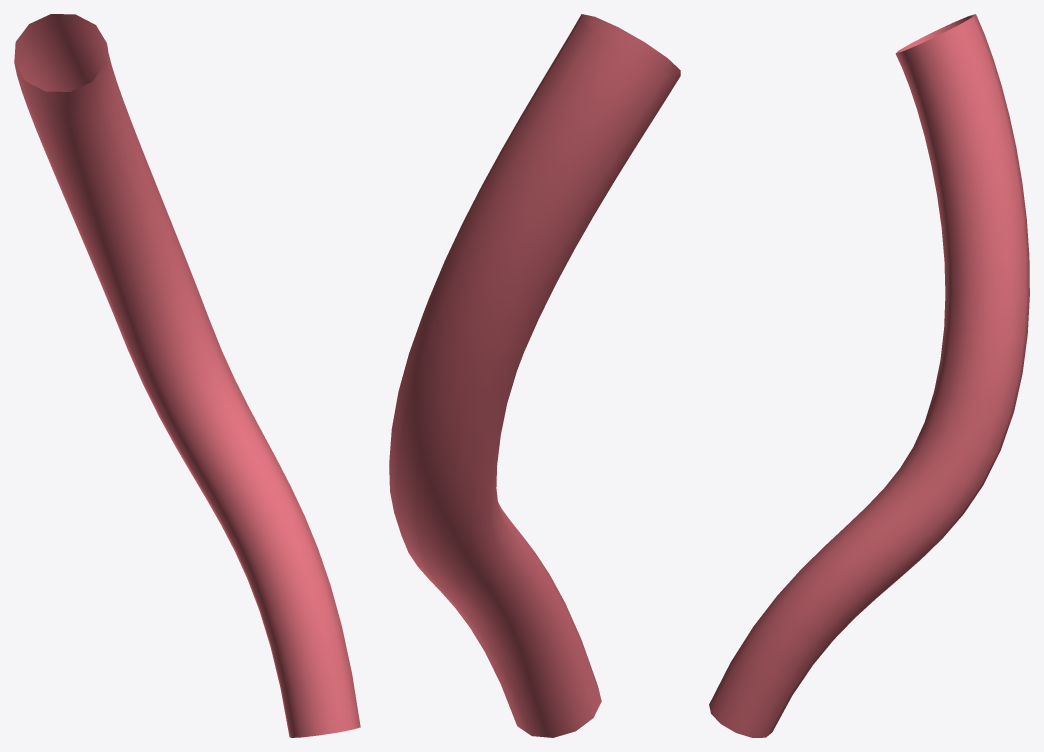
3 views of the same model, side by side, from view 1: azimuth 30°, elevation 25°; view 2: azimuth 150°, elevation 25°; view 3: azimuth 270°, elevation 25° (orthographic). The views are drawn at different scales.
Visible parts, largest first — view 1: ZA_3fc64c119936aae4; view 2: ZA_3fc64c119936aae4; view 3: ZA_3fc64c119936aae4.
Part boxes in pixels (x1,y1,x2,y2): ZA_3fc64c119936aae4: (14,14,360,737); ZA_3fc64c119936aae4: (389,14,680,737); ZA_3fc64c119936aae4: (709,14,1029,737).
Bounding box in the file's own units: 0.0374 × 0.1026 × 0.0464.
